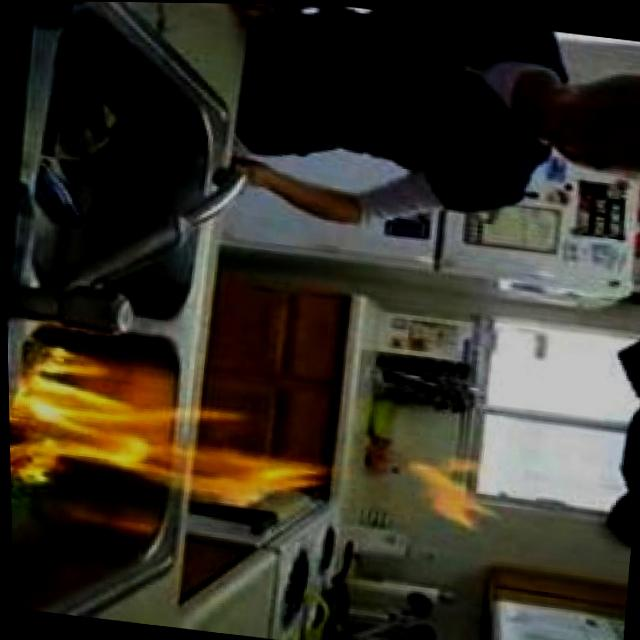helmet: (6, 347, 343, 522), (388, 431, 502, 530)
